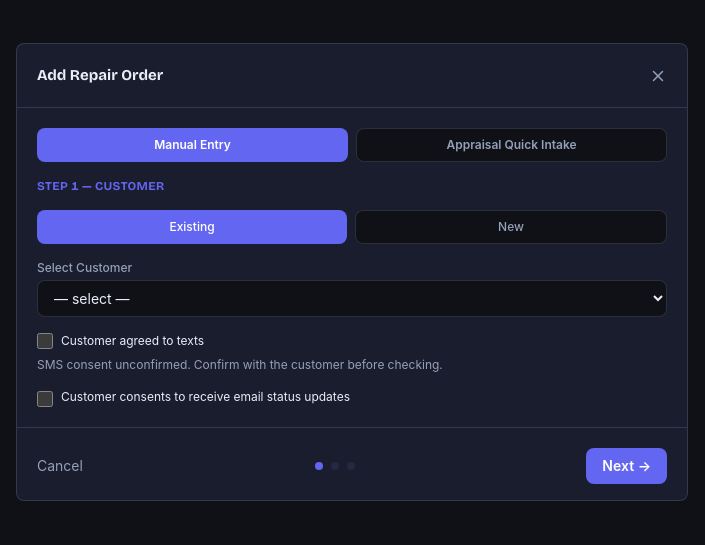
AddROModal feedback handling › shows customer-selection validation inline instead of using a browser alert
What coordinates should you click on to do the following:
click the button "Next →"
I would click on:
 (627, 466)
Its box is [586,448,667,484].
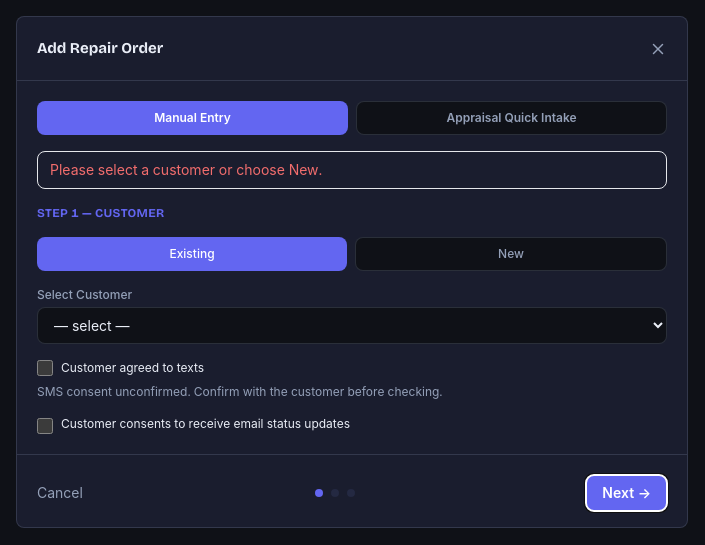
Now the message reads "Please select a customer or choose New.", box [50,161,322,178]
